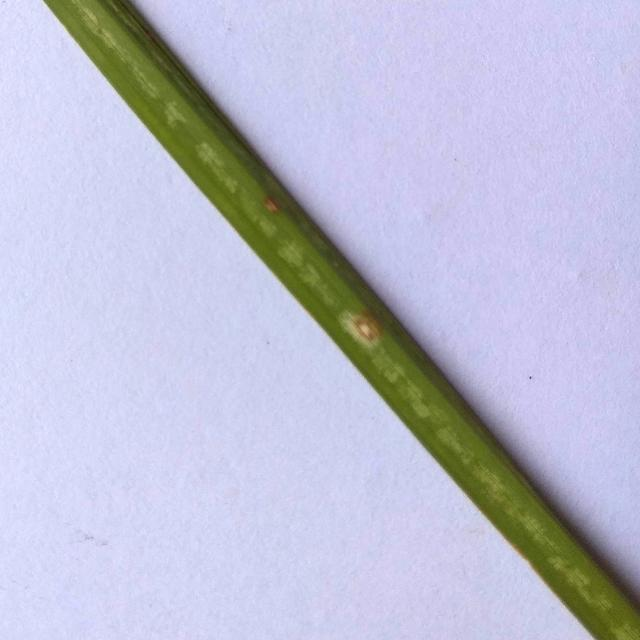Blast: (350, 314, 386, 346), (261, 197, 286, 217)
